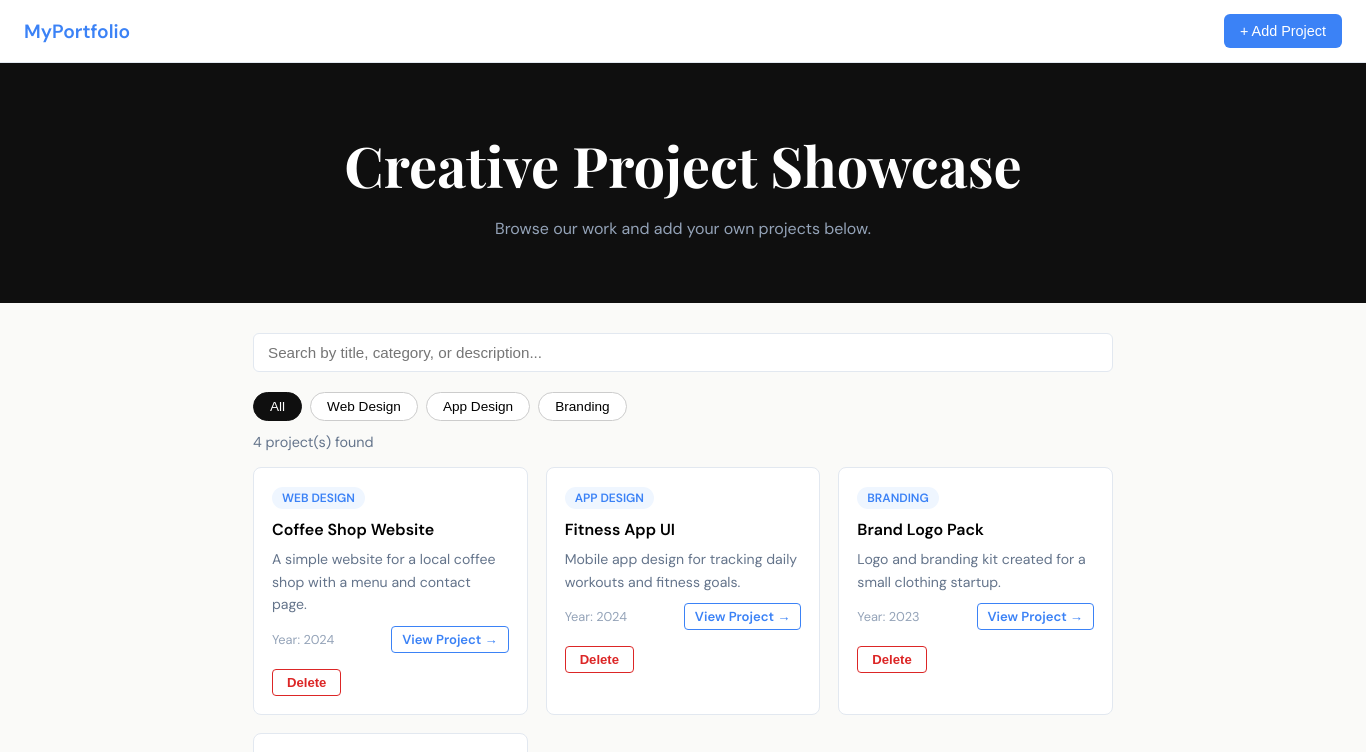
Test case: form appears when Add Project is clicked
This screenshot has width=1366, height=752.
Click the button "+ Add Project": click(1283, 31) [1224,14,1342,48]
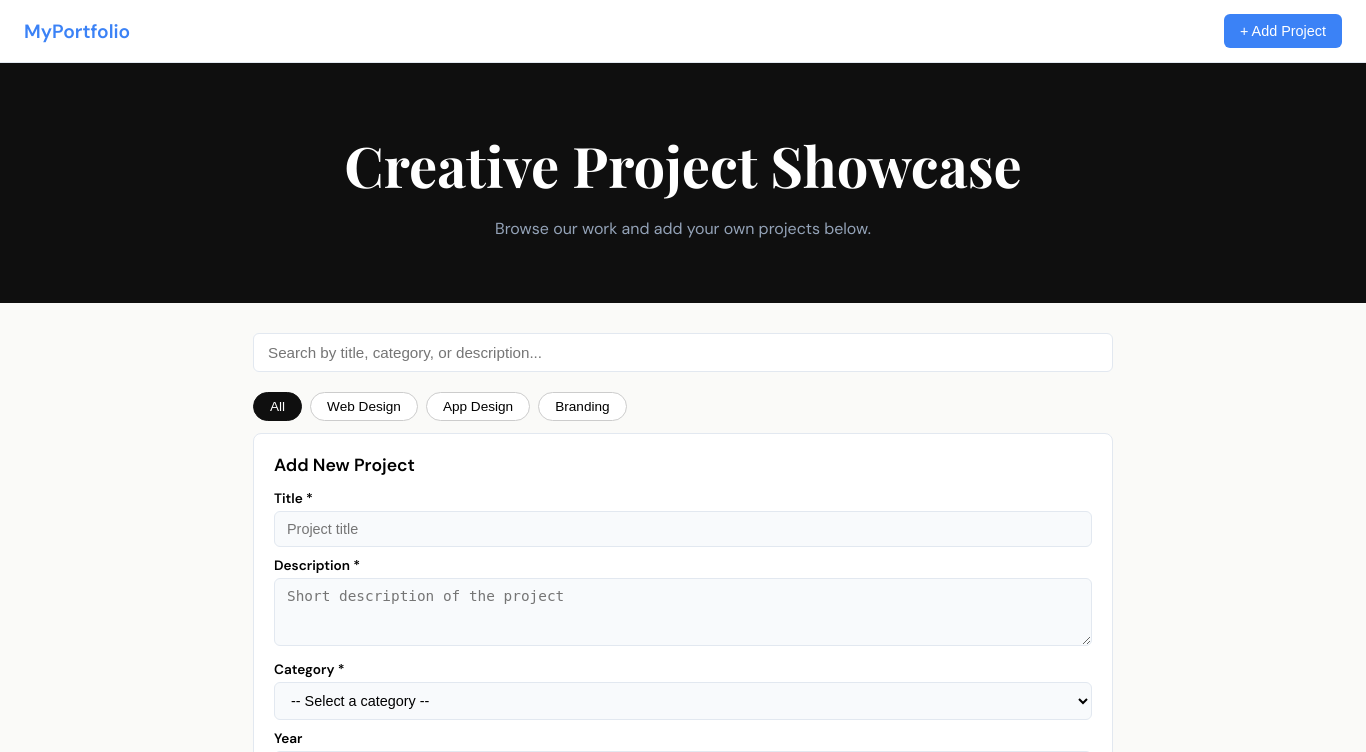
Expected: the heading "Add New Project" is shown, [274,454,415,476]
